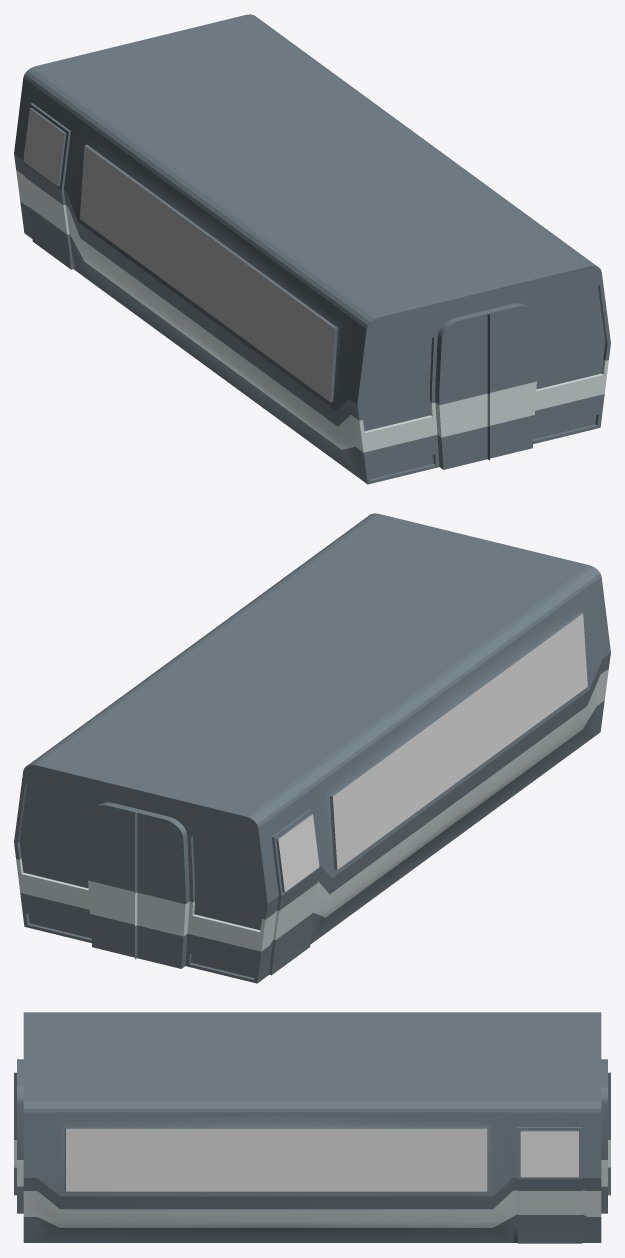
File: train (1).fbx
The picture shows the model from 3 angles, top to bottom: view 1: azimuth 30°, elevation 25°; view 2: azimuth 150°, elevation 25°; view 3: azimuth 270°, elevation 25°; orthographic projection. The views are drawn at different scales.
Parts seen in each view (by area): view 1: Cube, Cube.002; view 2: Cube, Cube.002; view 3: Cube, Cube.002.
Boxes of the visible parts, x1,y1,x2,y2 form: Cube: [14, 14, 610, 484]; Cube.002: [23, 108, 334, 401]; Cube: [14, 513, 610, 983]; Cube.002: [278, 613, 587, 891]; Cube: [14, 1012, 610, 1243]; Cube.002: [66, 1129, 578, 1191].
Size of the model in its own units: 618 by 372 by 1452.
